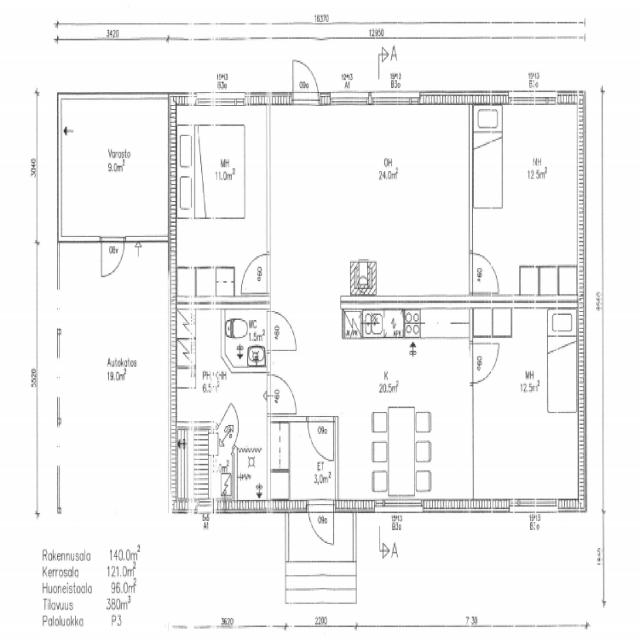door: (216, 402, 248, 450), (308, 499, 334, 553), (293, 51, 319, 104), (470, 251, 500, 292), (267, 311, 297, 351), (241, 252, 271, 292), (267, 375, 296, 414), (308, 416, 333, 461), (469, 344, 498, 382), (102, 235, 124, 277)
